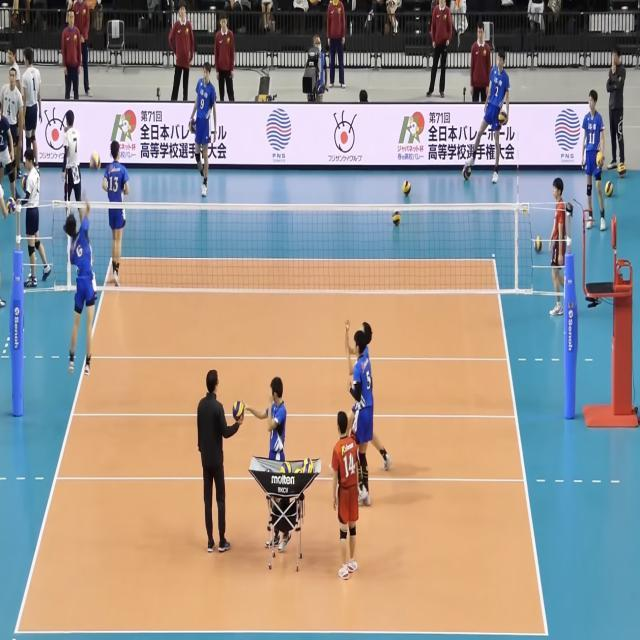spike: (57, 174, 99, 382)
